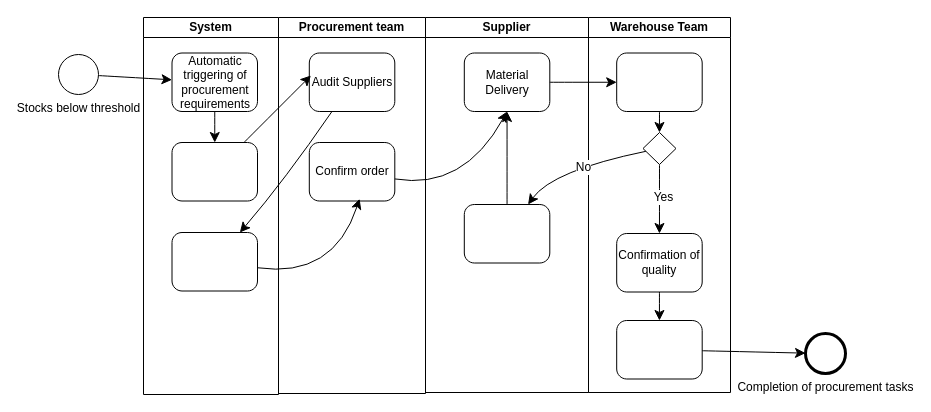
The diagram is 931 pixels wide and 412 high, and some of its shapes have lost their labels. Here are the shapes that lost their labels. From the top down, the centre of each, then its label:
point 659,82: Receiving and Inspection Materials
point 659,148: Judging acceptance
point 214,171: Recommended Suppliers
point 506,233: Returns or supplementary deliveries
point 214,261: Generate Purchase Orders
point 659,349: Completion of payments
